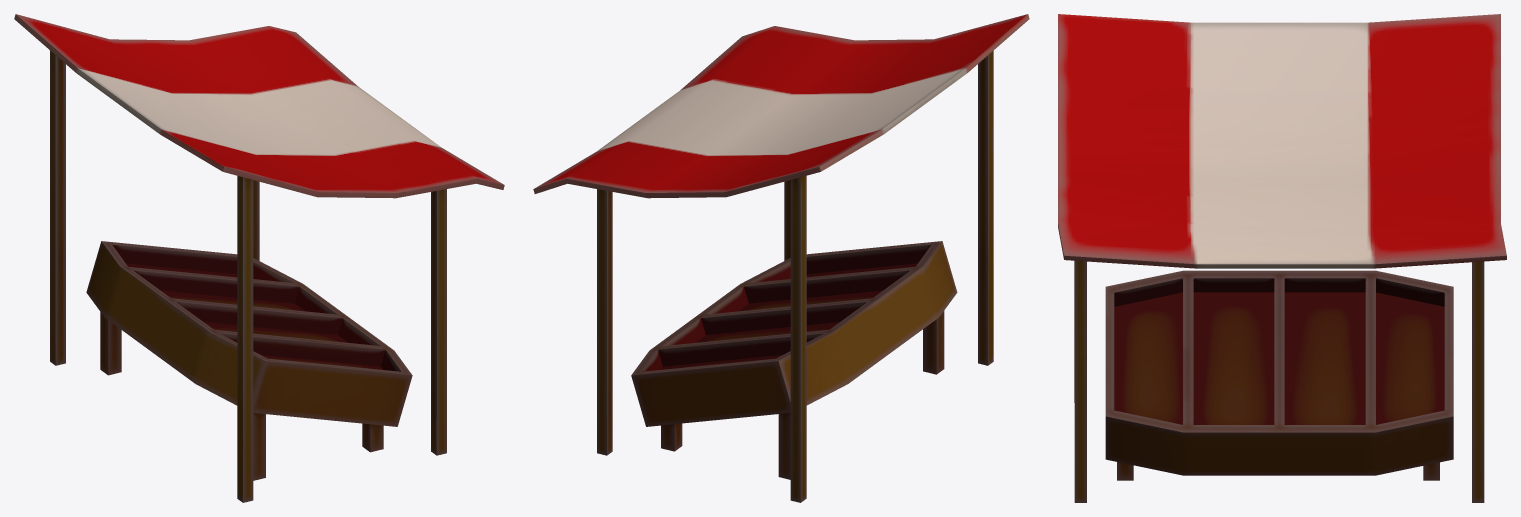
File: pazarK.fbx
The picture shows the model from 3 angles, left to right: view 1: azimuth 30°, elevation 25°; view 2: azimuth 150°, elevation 25°; view 3: azimuth 270°, elevation 25°; orthographic projection. The views are drawn at different scales.
Parts seen in each view (by area): view 1: Cube.038; view 2: Cube.038; view 3: Cube.038.
Part boxes in pixels (box(x1,y1,x2,y2)): Cube.038: box(14, 14, 504, 502); Cube.038: box(533, 14, 1029, 502); Cube.038: box(1058, 14, 1506, 502).
Size of the model in its own units: 709 by 827 by 910.
